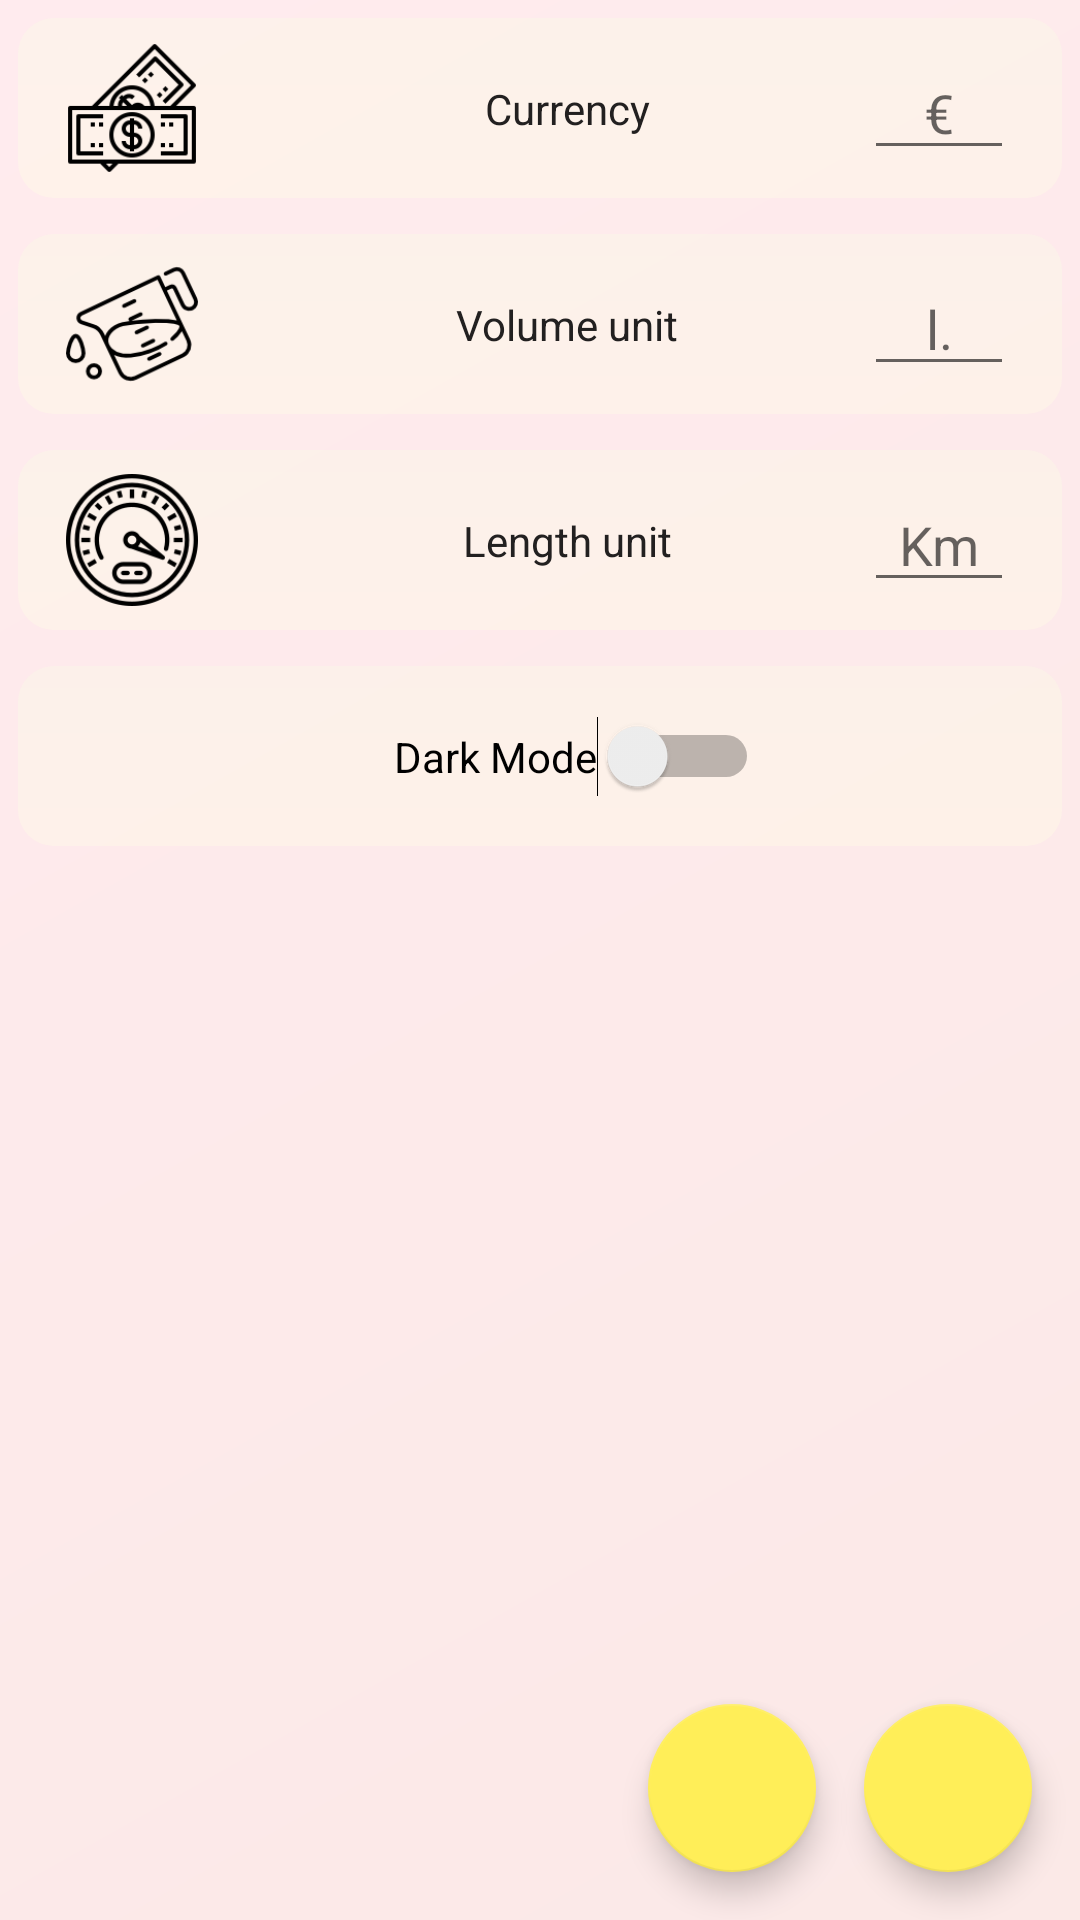

Locate icon controls on the screen. Image size 1080*1920, boxes as (left=x1, top=y1, right=x2, bottom=y2).
Currency: (left=68, top=44, right=196, bottom=172)
Volume unit: (left=66, top=267, right=198, bottom=381)
